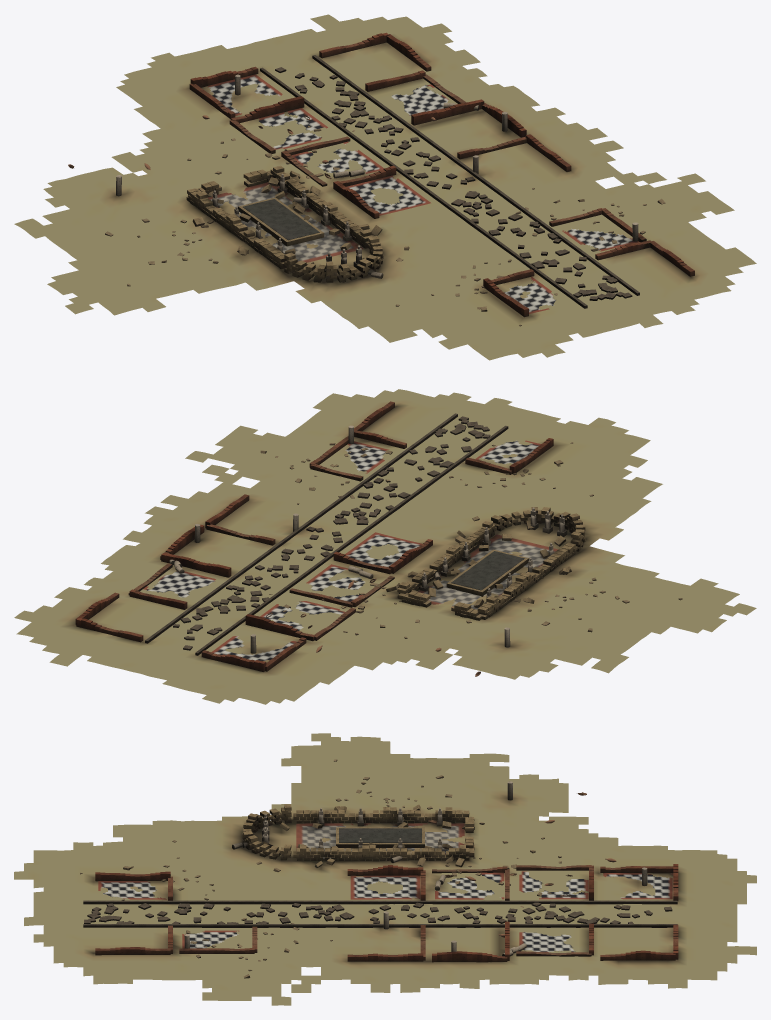
The picture shows the model from 3 angles, top to bottom: view 1: azimuth 30°, elevation 25°; view 2: azimuth 150°, elevation 25°; view 3: azimuth 270°, elevation 25°; orthographic projection. The views are drawn at different scales.
Parts seen in each view (by area): view 1: sediment, rooms, mosaics, nymphaeum, road, stones, columns, statues; view 2: sediment, rooms, mosaics, nymphaeum, road, stones, statues, columns; view 3: sediment, road, mosaics, nymphaeum, rooms, stones, columns, statues.
Part boxes in pixels (<box>): sediment: <box>14,14,756,360</box>; rooms: <box>189,32,694,317</box>; mosaics: <box>207,74,638,313</box>; nymphaeum: <box>186,165,383,282</box>; road: <box>260,55,639,308</box>; stones: <box>105,126,665,326</box>; columns: <box>116,74,638,278</box>; statues: <box>212,174,361,271</box>; sediment: <box>14,389,756,704</box>; rooms: <box>75,401,553,671</box>; mosaics: <box>143,440,557,660</box>; nymphaeum: <box>386,507,585,620</box>; road: <box>145,413,508,655</box>; stones: <box>260,442,682,638</box>; statues: <box>420,507,567,603</box>; columns: <box>169,425,544,653</box>; sediment: <box>14,733,756,1005</box>; road: <box>83,900,677,927</box>; mosaics: <box>98,823,672,952</box>; nymphaeum: <box>242,804,474,867</box>; rooms: <box>95,864,678,962</box>; stones: <box>80,759,561,978</box>; columns: <box>184,781,647,956</box>; statues: <box>262,808,442,851</box>.
Size of the model in its own units: 65 by 2.53 by 75.
Materials: 3 (1 with a texture image).
